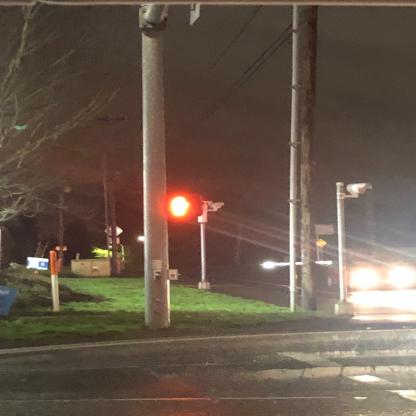Crosswalk: (276, 344, 416, 401)
Don-t Walk: (164, 194, 194, 214)
